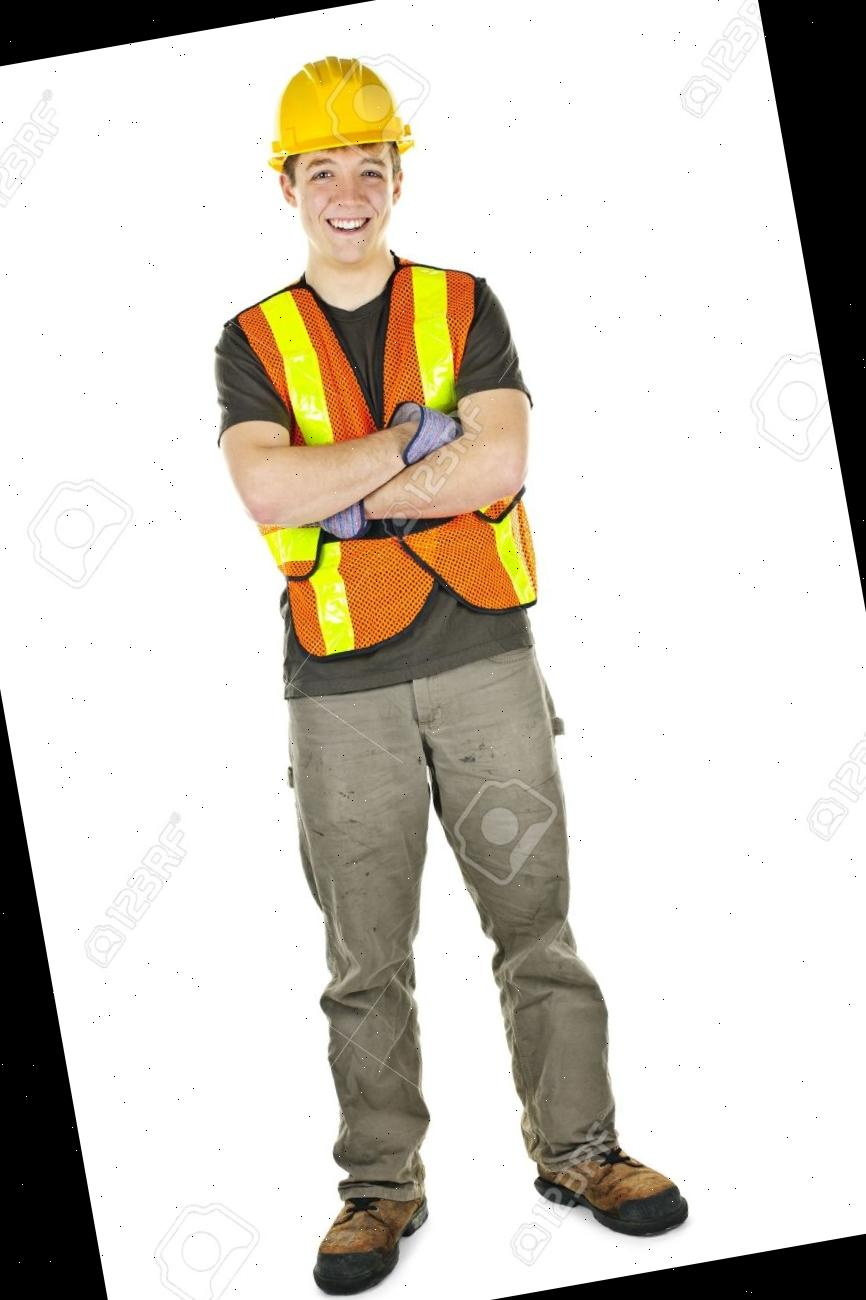helmet: (253, 47, 413, 174)
wear: (204, 254, 550, 685)
